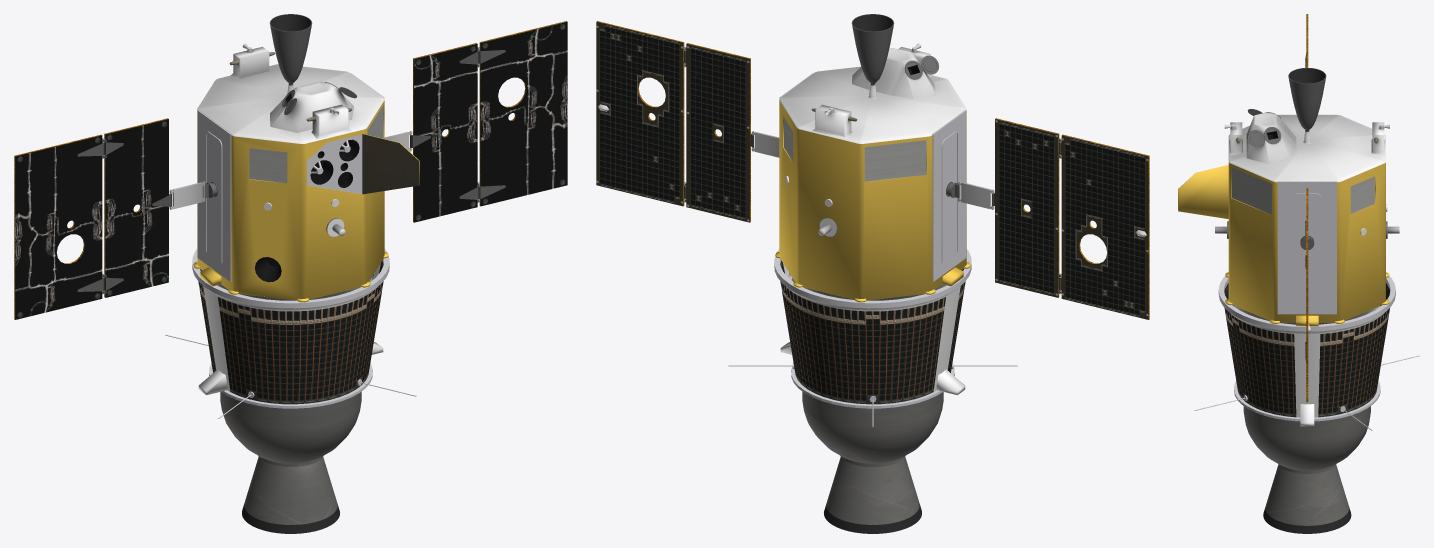
File: clementine_isas.gltf
3 views of the same model, side by side, from view 1: azimuth 30°, elevation 25°; view 2: azimuth 150°, elevation 25°; view 3: azimuth 270°, elevation 25° (orthographic). The views are drawn at different scales.
Visible parts, largest first — view 1: tex_01, foil_gold, shiny_panel, foil_white, AO_hinges, foil_silver; view 2: shiny_panel, tex_01, foil_gold, foil_white, foil_silver, AO_hinges; view 3: tex_01, foil_gold, shiny_panel, foil_white, foil_silver, AO_dish.
Part boxes in pixels (box(x1,y1,x2,y2)): tex_01: box(14, 14, 567, 533); foil_gold: box(193, 100, 419, 302); shiny_panel: box(198, 281, 383, 404); foil_white: box(197, 47, 384, 143); AO_hinges: box(77, 46, 505, 294); foil_silver: box(198, 263, 383, 395); shiny_panel: box(596, 22, 1148, 404); tex_01: box(596, 14, 1149, 533); foil_gold: box(775, 100, 970, 302); foil_white: box(779, 47, 966, 143); foil_silver: box(598, 104, 1146, 395); AO_hinges: box(684, 46, 1061, 294); tex_01: box(1194, 14, 1419, 533); foil_gold: box(1178, 162, 1389, 326); shiny_panel: box(1224, 307, 1390, 417); foil_white: box(1228, 112, 1385, 182); foil_silver: box(1230, 312, 1384, 426); AO_dish: box(1215, 221, 1399, 324).
Bounding box in the file's own units: 4.13 × 3.5 × 1.75.
Materials: 7 (5 with a texture image).
